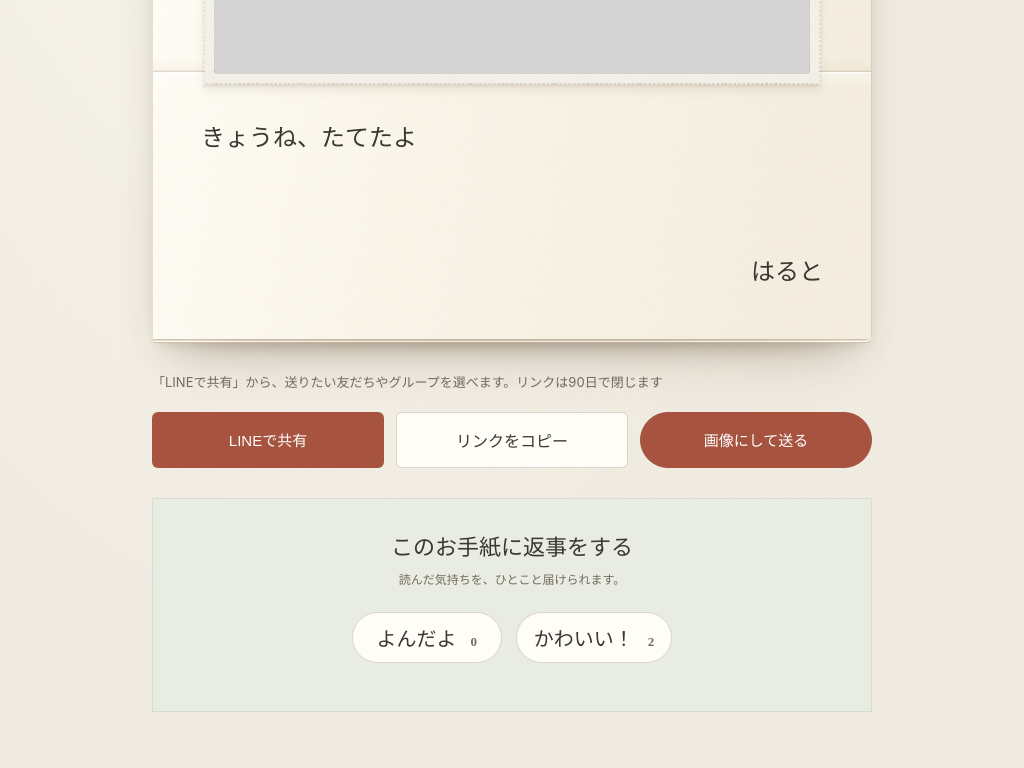
Scenario: LetterPage › shows the share UI after creating a letter
(page scrolled)
expect the text "「LINEで共有」から、送りたい友だちやグループを選べます。リンクは90日で閉じます" is shown: met, box [152,374,663,390]
Click the button "リンクをコピー" at (512, 440), box [396,412,628,468]
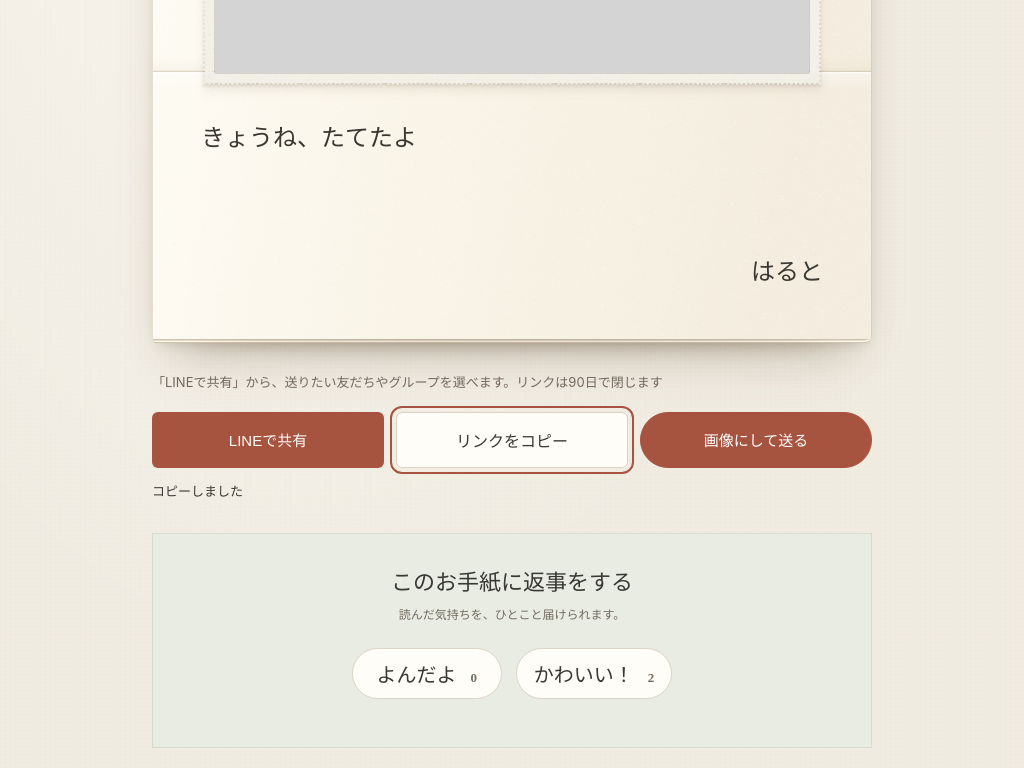
expect the text "コピーしました" is shown: met, box [152,483,243,499]
